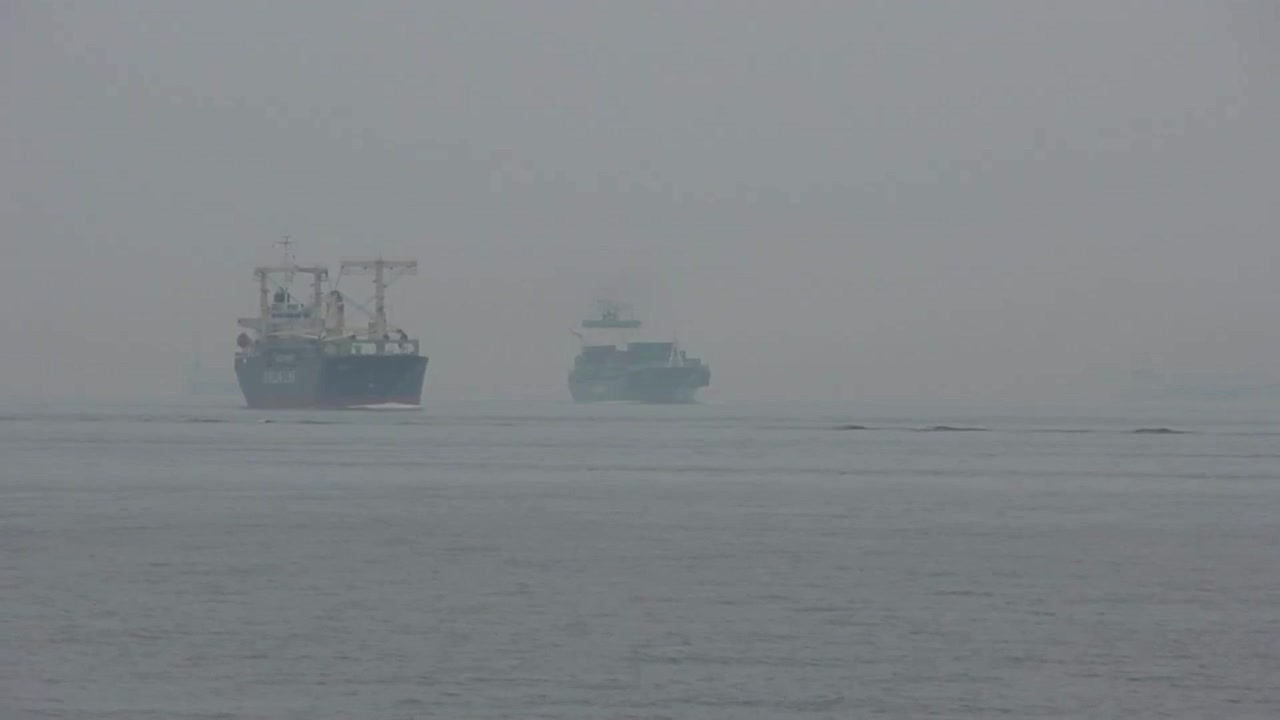boat: (229, 236, 433, 412)
